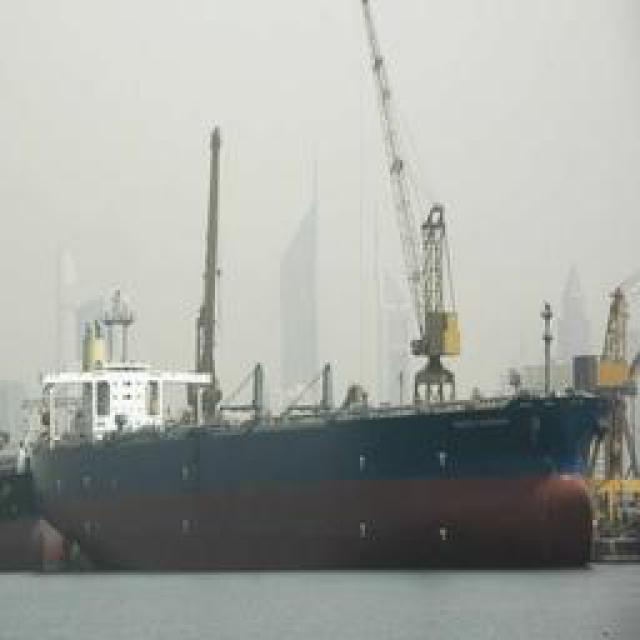Ship: (21, 370, 636, 575)
